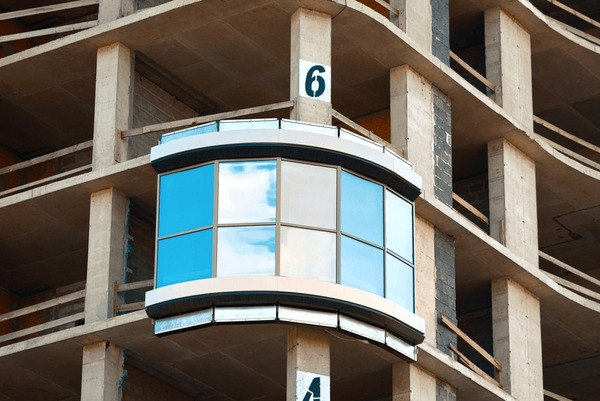glass panel: (158, 164, 213, 236), (281, 161, 336, 229), (218, 160, 275, 223), (156, 229, 211, 287), (341, 171, 382, 244), (280, 227, 335, 281), (217, 226, 274, 276), (340, 236, 383, 295), (385, 191, 413, 262), (385, 254, 413, 311)
